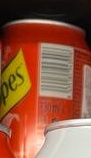1d: (39, 42, 71, 93)
